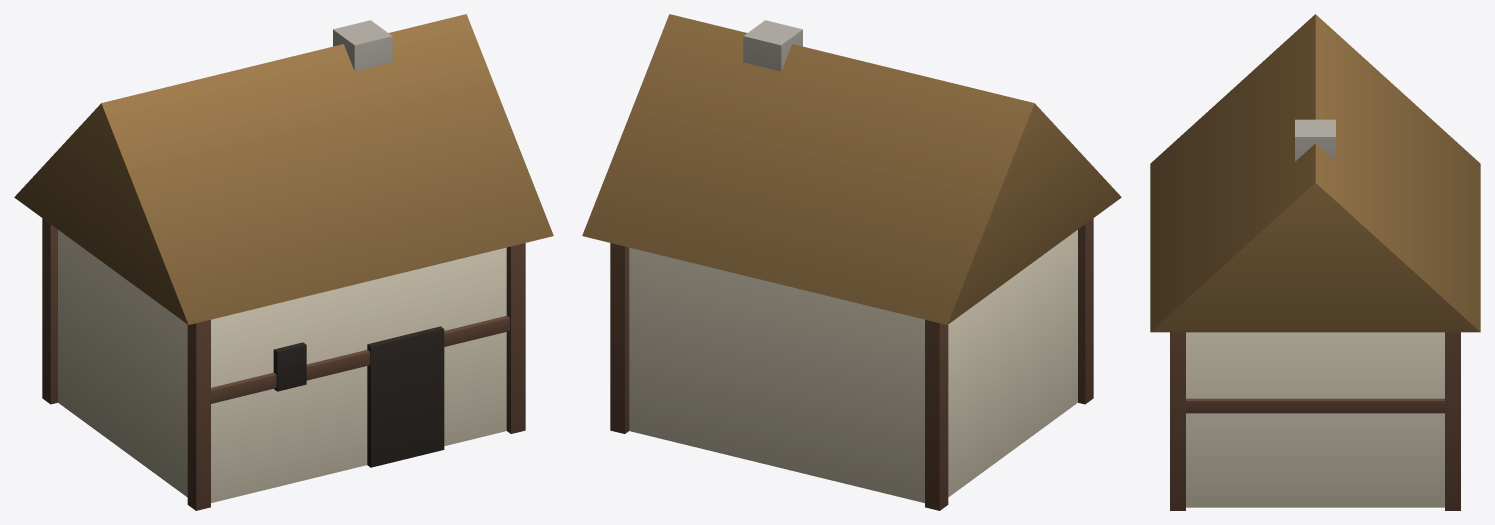
The model's file is house_NE_3b.glb.
3 views of the same model, side by side, from view 1: azimuth 30°, elevation 25°; view 2: azimuth 150°, elevation 25°; view 3: azimuth 270°, elevation 25° (orthographic). The views are drawn at different scales.
Visible parts, largest first — view 1: Body; view 2: Body; view 3: Body.
Part boxes in pixels (box(x1,y1,x2,y2)): Body: box(14, 14, 553, 510); Body: box(582, 14, 1121, 510); Body: box(1150, 14, 1480, 510).
Size of the model in its own units: 1.74 by 1.65 by 1.44.
1 material, 1 textured.
